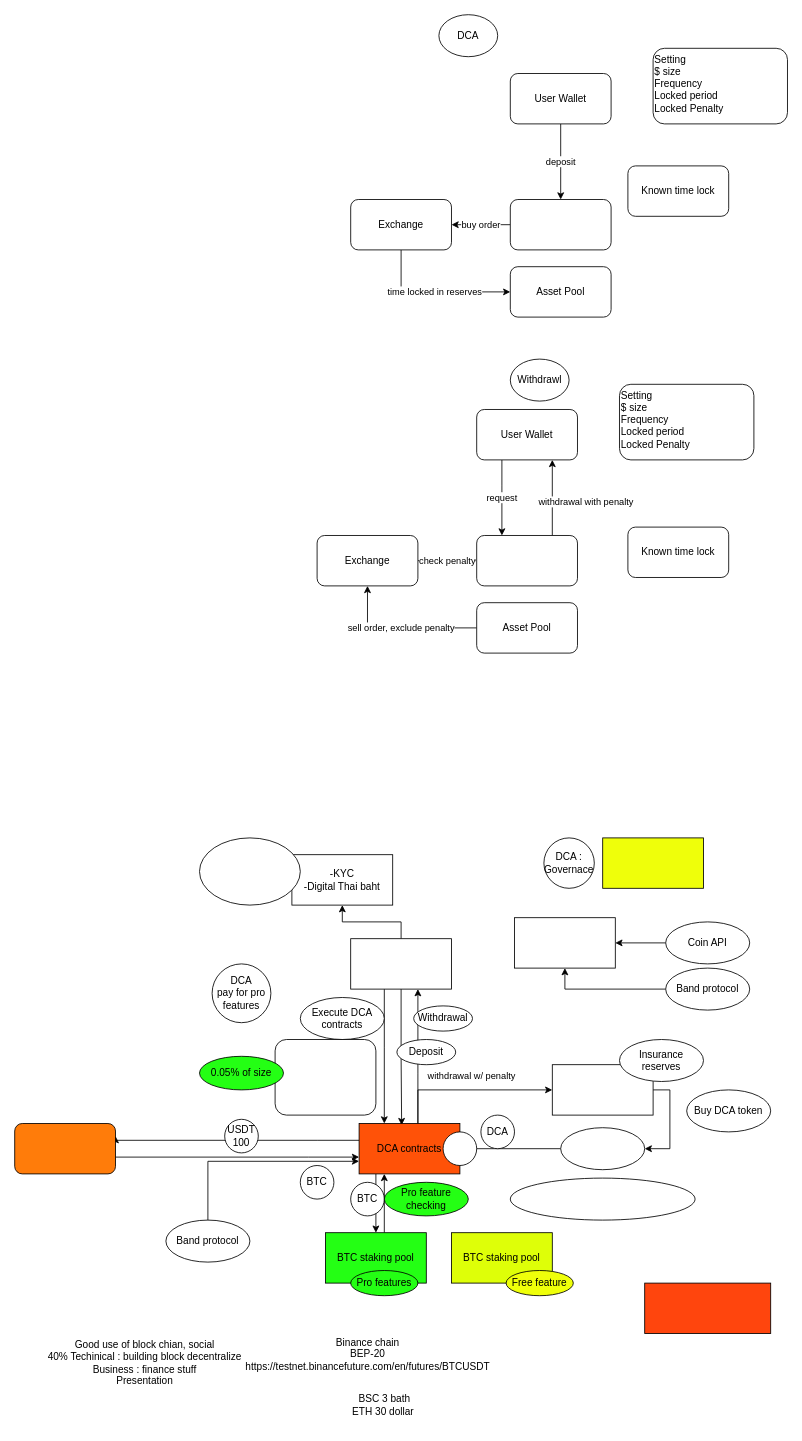
Image size: 802x1441. Some labels were removed from this diagram. Here are the shapes that lost their labels. From the top down, the box of each, then its label:
(509, 199, 611, 250): Cash Pool
(476, 535, 578, 586): Smart contracts
(199, 837, 300, 905): Centralized Entity to Reduce friction Traditional bank
(602, 837, 704, 888): Vote platfrom direction
(514, 917, 615, 968): Web app DCA simulator
(350, 938, 452, 989): Meta mask wallet
(274, 1039, 376, 1115): Setting $ size 100 Frequency monthly Locked period Locked Penalty
(551, 1064, 653, 1115): Penalty pool
(14, 1123, 116, 1174): Exchange Uniswap/ pancake
(442, 1131, 477, 1166): USDT 200
(560, 1127, 645, 1170): DCA/Token pool
(509, 1177, 695, 1220): Cron jobs/ centrazlied/ https://www.ethereum-alarm-clock.com/
(644, 1282, 771, 1334): DCA contracts Buy withtime interval Time lock + minimum
